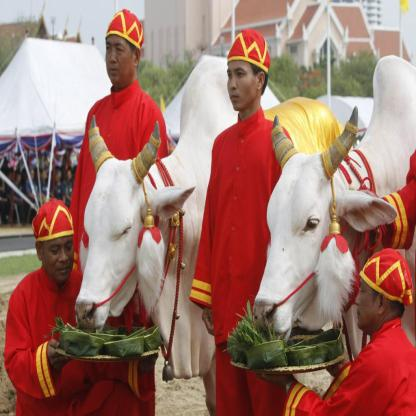face: (45, 233, 76, 285), (355, 270, 380, 330), (107, 30, 134, 85), (227, 58, 256, 108)
